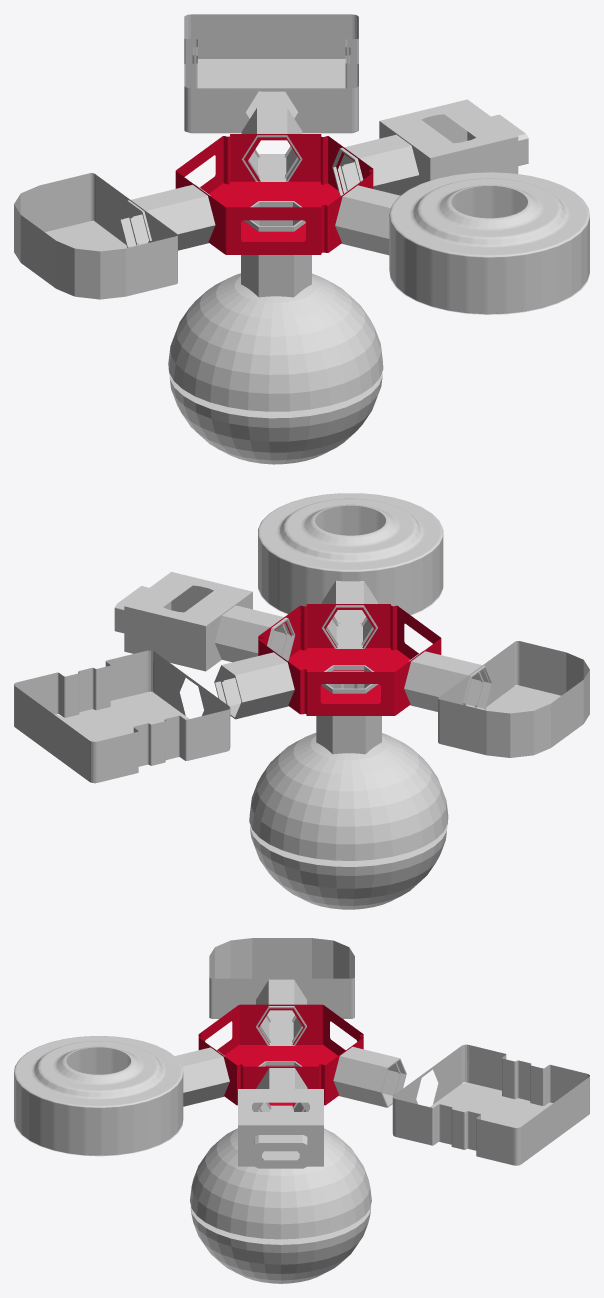
Rendered from Ship Interior 15.fbx.
3 renders of one model, top to bottom at view 1: azimuth 30°, elevation 25°; view 2: azimuth 150°, elevation 25°; view 3: azimuth 270°, elevation 25°, orthographic. The views are drawn at different scales.
Parts seen in each view (by area): view 1: Dome, Cloning Room, Incinerator Room, Captains Quaters, Central Room, Personal Quaters, Main to Personal.002, Main to Dome, Main to Personal, Main to Personal.001, Main to Incinerator; view 2: Dome, Incinerator Room, Cloning Room, Captains Quaters, Central Room, Personal Quaters, Main to Incinerator, Main to Personal.002, Main to Personal, Main to Dome, Main to Personal.001; view 3: Dome, Cloning Room, Incinerator Room, Captains Quaters, Central Room, Personal Quaters, Main to Incinerator, Main to Personal.002, Main to Personal.001, Main to Personal.
Boxes of the visible parts, x1,y1,x2,y2 form: Dome: (168, 273, 383, 464); Cloning Room: (389, 172, 589, 314); Incinerator Room: (184, 14, 358, 133); Captains Quaters: (14, 173, 177, 299); Central Room: (175, 134, 373, 254); Personal Quaters: (379, 99, 528, 186); Main to Personal.002: (120, 184, 215, 250); Main to Dome: (241, 201, 311, 297); Main to Personal: (332, 134, 418, 195); Main to Personal.001: (335, 185, 399, 255); Main to Incinerator: (241, 107, 302, 181); Dome: (249, 733, 448, 909); Incinerator Room: (14, 650, 230, 783); Cloning Room: (258, 493, 443, 623); Captains Quaters: (438, 641, 589, 757); Central Room: (258, 604, 441, 715); Personal Quaters: (114, 572, 252, 671); Main to Incinerator: (214, 652, 294, 719); Main to Personal.002: (404, 650, 492, 711); Main to Personal: (215, 605, 295, 662); Main to Dome: (316, 665, 381, 754); Main to Personal.001: (321, 580, 377, 648); Dome: (190, 1128, 371, 1283); Cloning Room: (14, 1036, 183, 1156); Incinerator Room: (392, 1044, 589, 1165); Captains Quaters: (209, 938, 354, 1019); Central Room: (198, 1004, 363, 1106); Personal Quaters: (238, 1089, 323, 1168); Main to Incinerator: (333, 1046, 406, 1107); Main to Personal.002: (256, 979, 306, 1045); Main to Personal.001: (175, 1047, 229, 1106); Main to Personal: (256, 1068, 307, 1111).
Size of the model in its own units: 6265 by 3830 by 7808.
